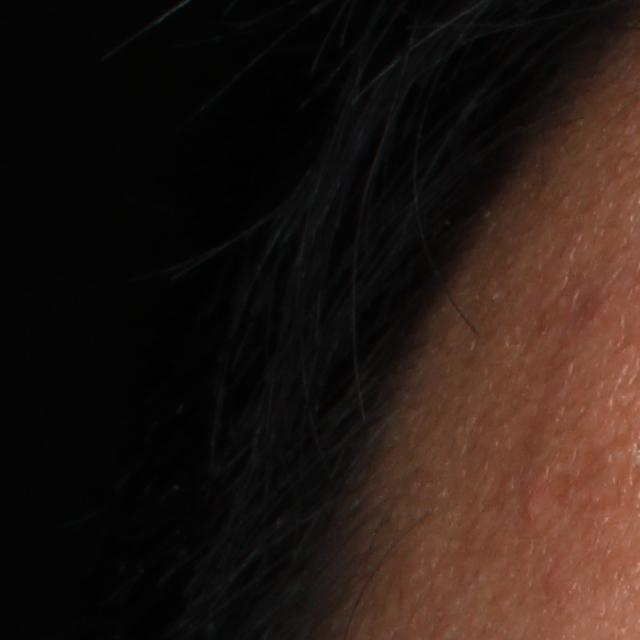papule: (524, 487, 548, 526)
